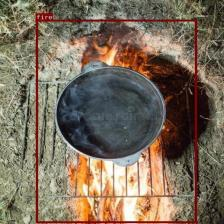fire: (36, 19, 196, 223)
